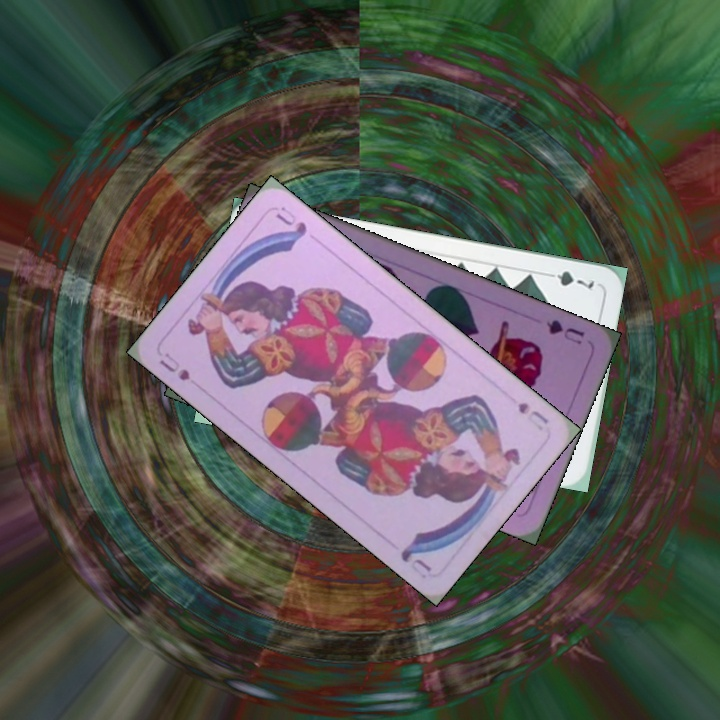G7: (540, 266, 597, 292)
GU: (542, 315, 587, 347)
SU: (155, 348, 193, 384), (513, 398, 551, 433)
